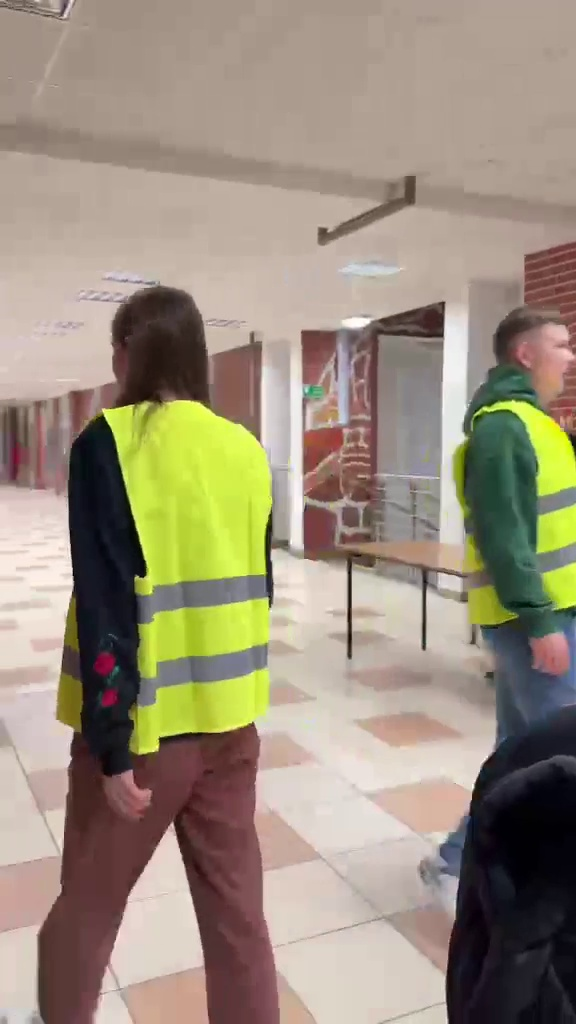vest: (42, 285, 284, 1005), (426, 303, 574, 877)
